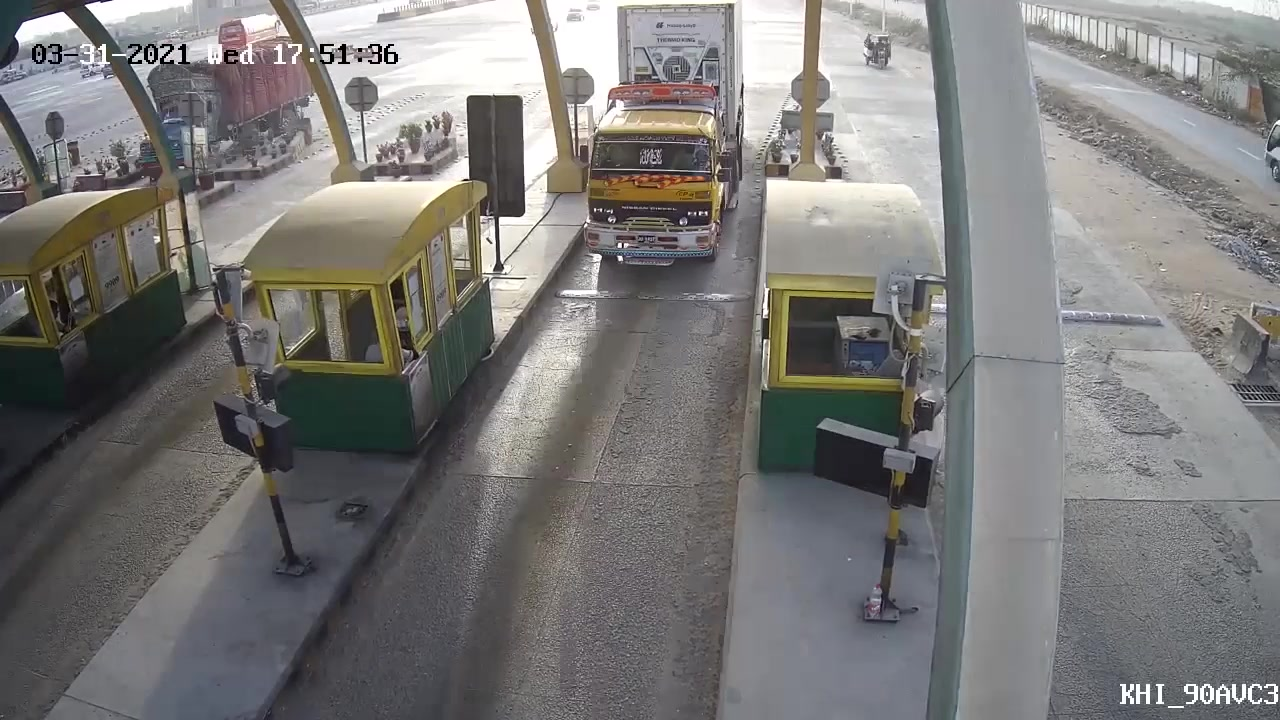F5: (569, 1, 752, 303)
